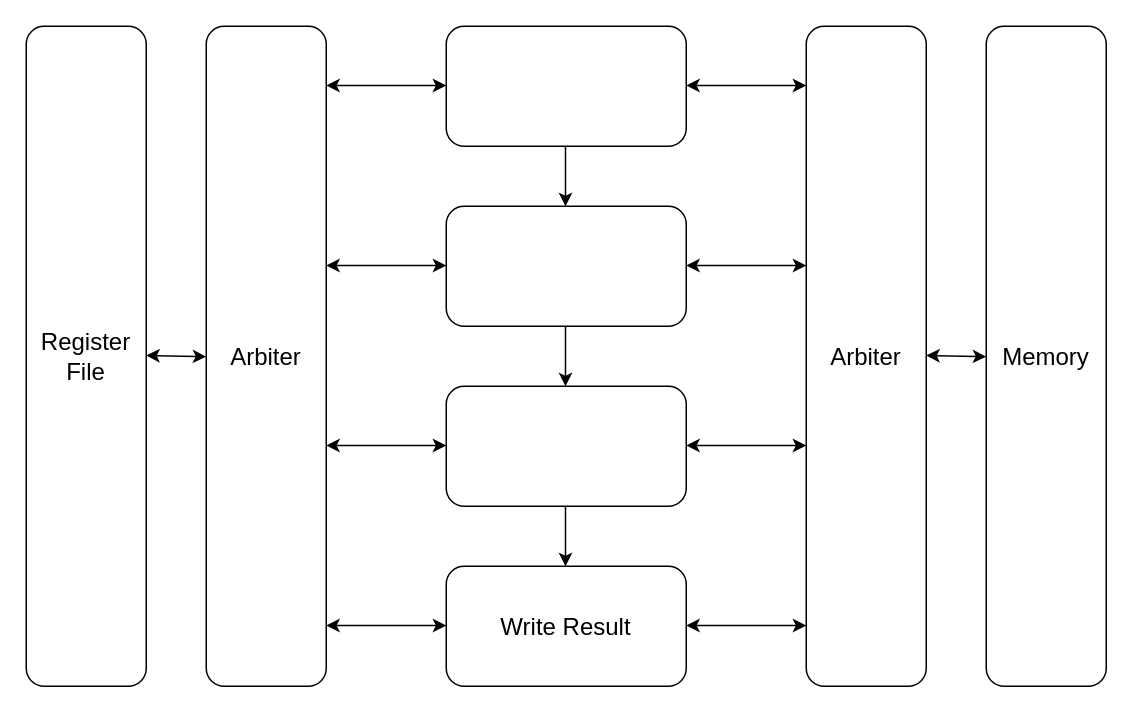
The diagram is 1133 pixels wide and 713 high, and some of its shapes have lost their labels. Here are the shapes that lost their labels. From the top down, the box of each, then its label:
(445, 25, 686, 146): Read Instruction
(445, 205, 686, 326): Read Operand 1
(445, 385, 686, 506): Read Operand 2
